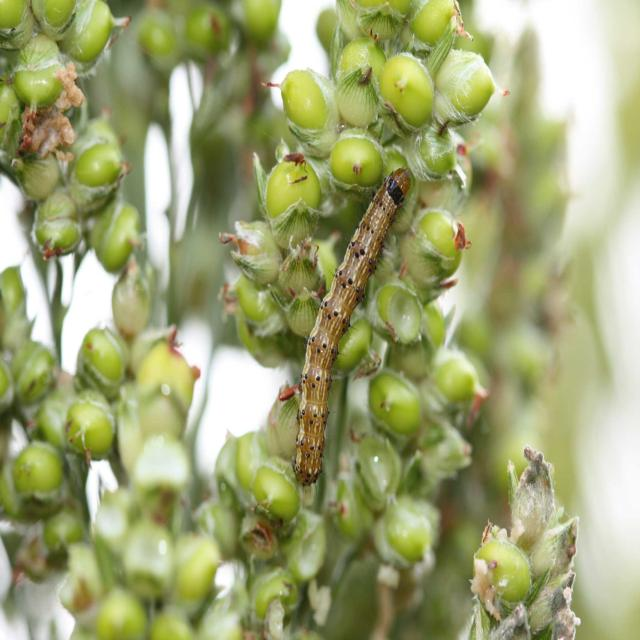Corn-earworm: (300, 172, 408, 499)
